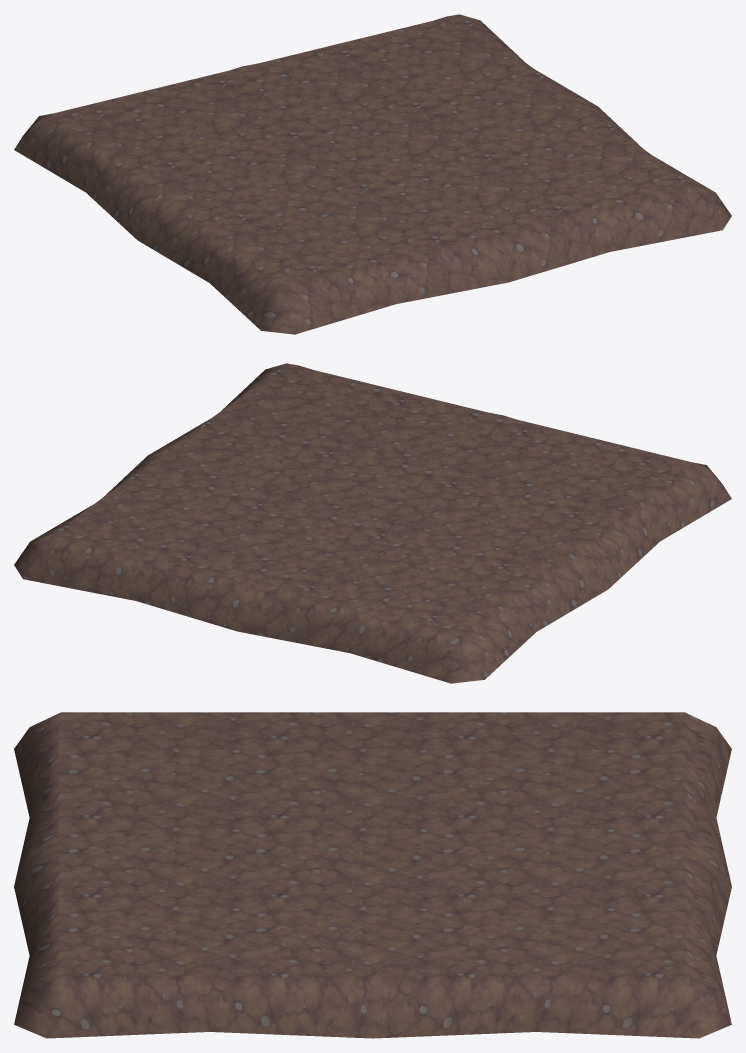
The model's file is Forest_Soil_Tile.fbx.
The picture shows the model from 3 angles, top to bottom: view 1: azimuth 30°, elevation 25°; view 2: azimuth 150°, elevation 25°; view 3: azimuth 270°, elevation 25°; orthographic projection. The views are drawn at different scales.
Visible parts, largest first — view 1: Forest_Soil_Tile; view 2: Forest_Soil_Tile; view 3: Forest_Soil_Tile.
Part boxes in pixels (x1,y1,x2,y2): Forest_Soil_Tile: (14,14,731,334); Forest_Soil_Tile: (14,363,731,683); Forest_Soil_Tile: (14,712,731,1038).
Bounding box in the file's own units: 230 × 15 × 230.
